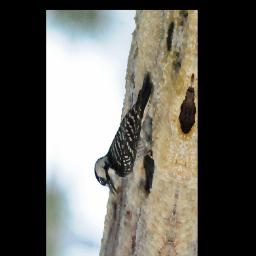Woodpecker: (90, 61, 163, 205)
